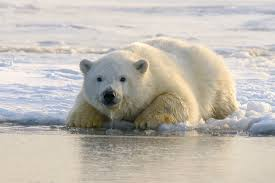PolarBear: (69, 34, 242, 135)
